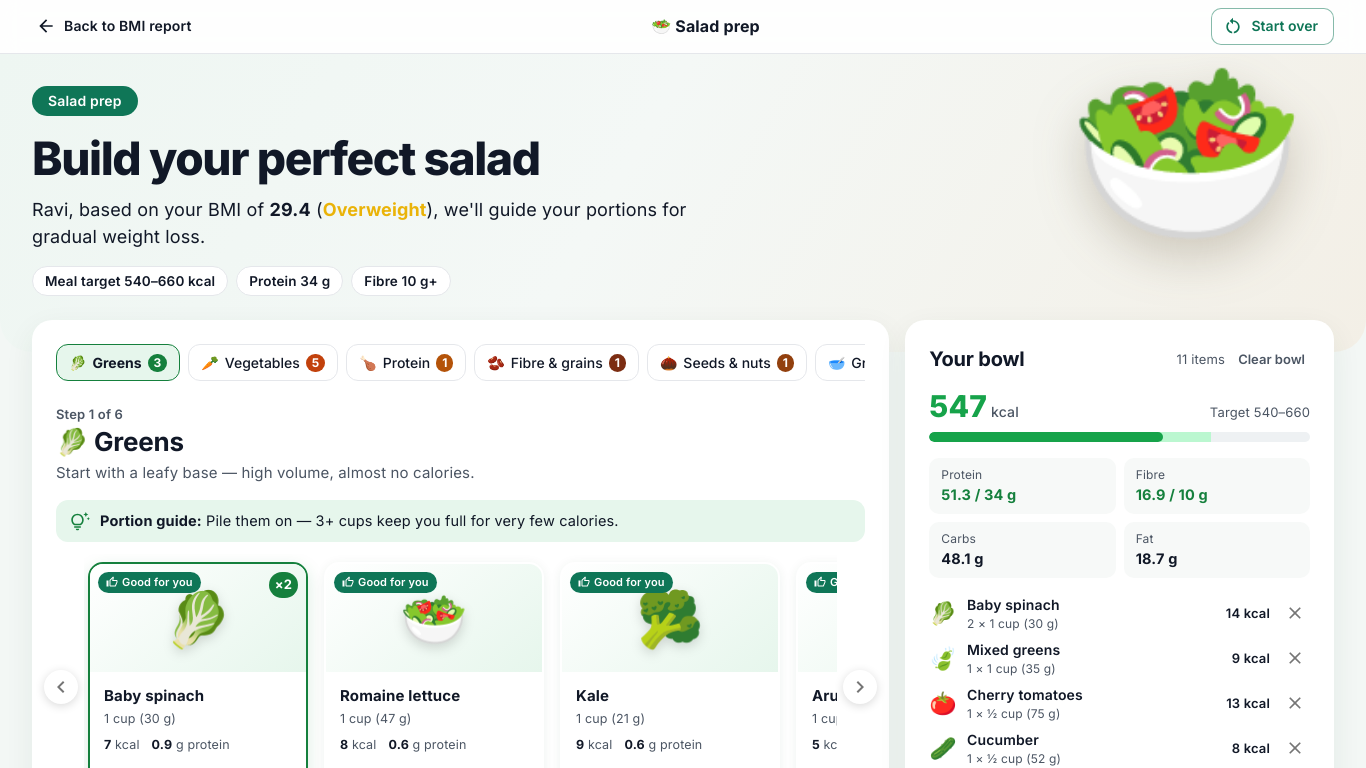
Test case: SaladBuilder › Start over in the top bar restores the recommended bowl, with undo
The image size is (1366, 768).
Expected: the text "based on your BMI of" is shown, [32,196,752,250]
Click the button "Clear bowl": (1272,359) [1233,344,1310,375]
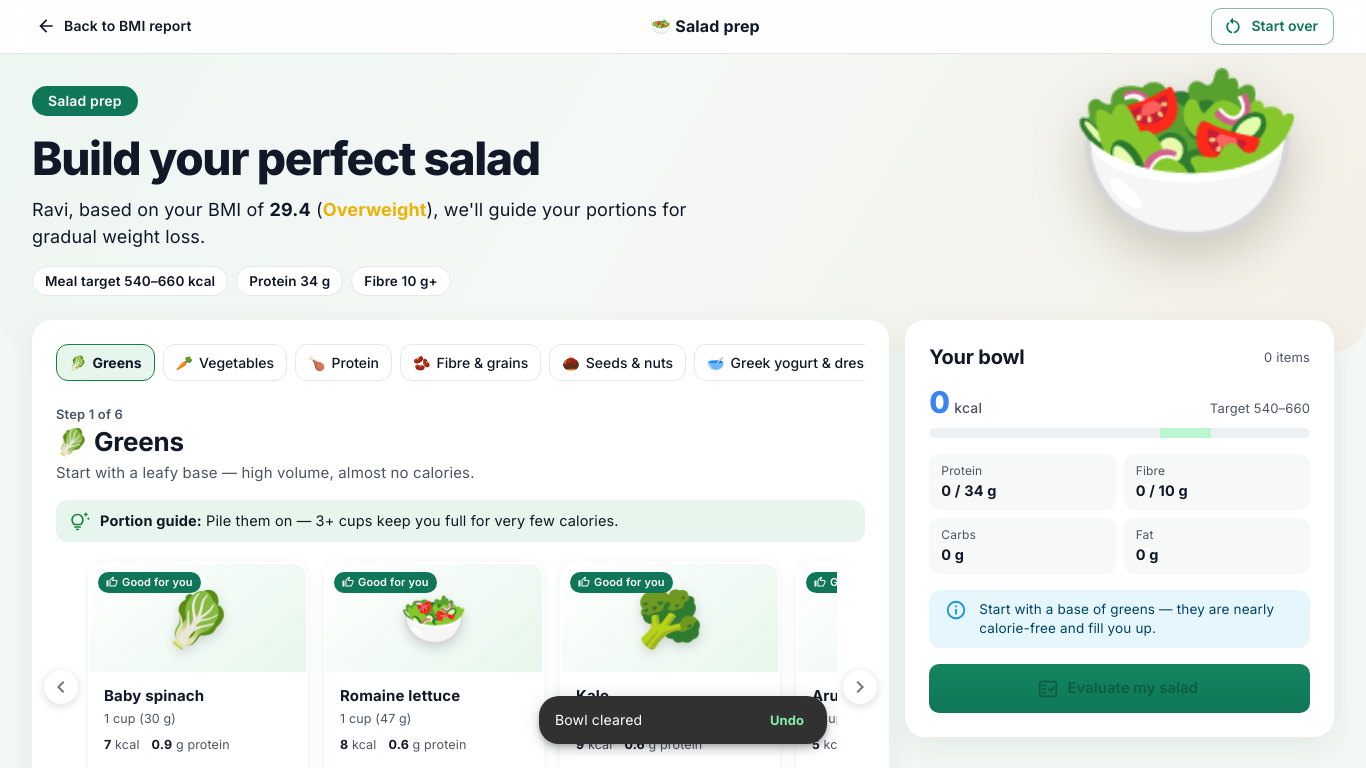
Now the element with test id "bowl-kcal" shows "0", box [929,384,950,420]
Click the button "Start over": (1273,26) [1212,8,1334,44]
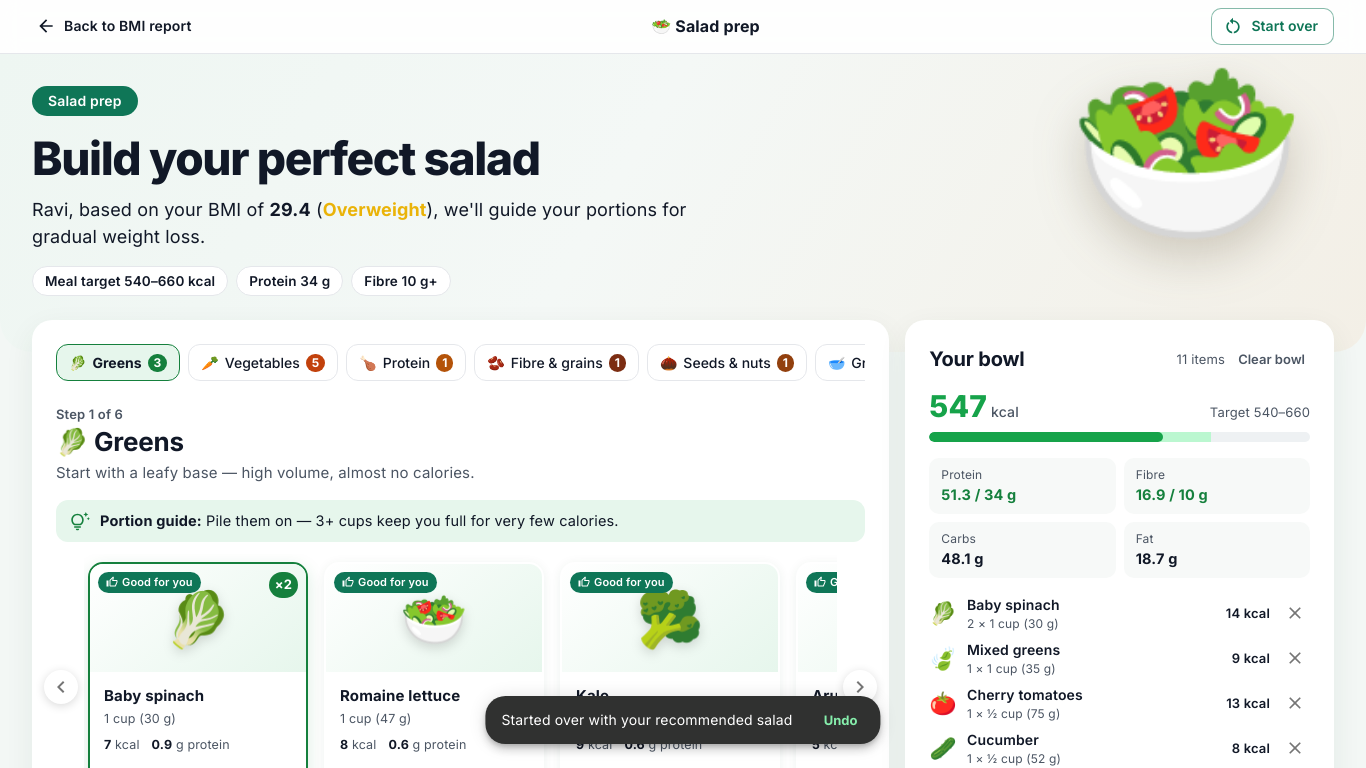
Now the element with test id "bowl-kcal" shows "547", box [929,388,987,424]
Now the text "Started over with your recommended salad" is shown, box [501,711,793,728]
Click the button "Undo": (841,720) [809,705,873,735]
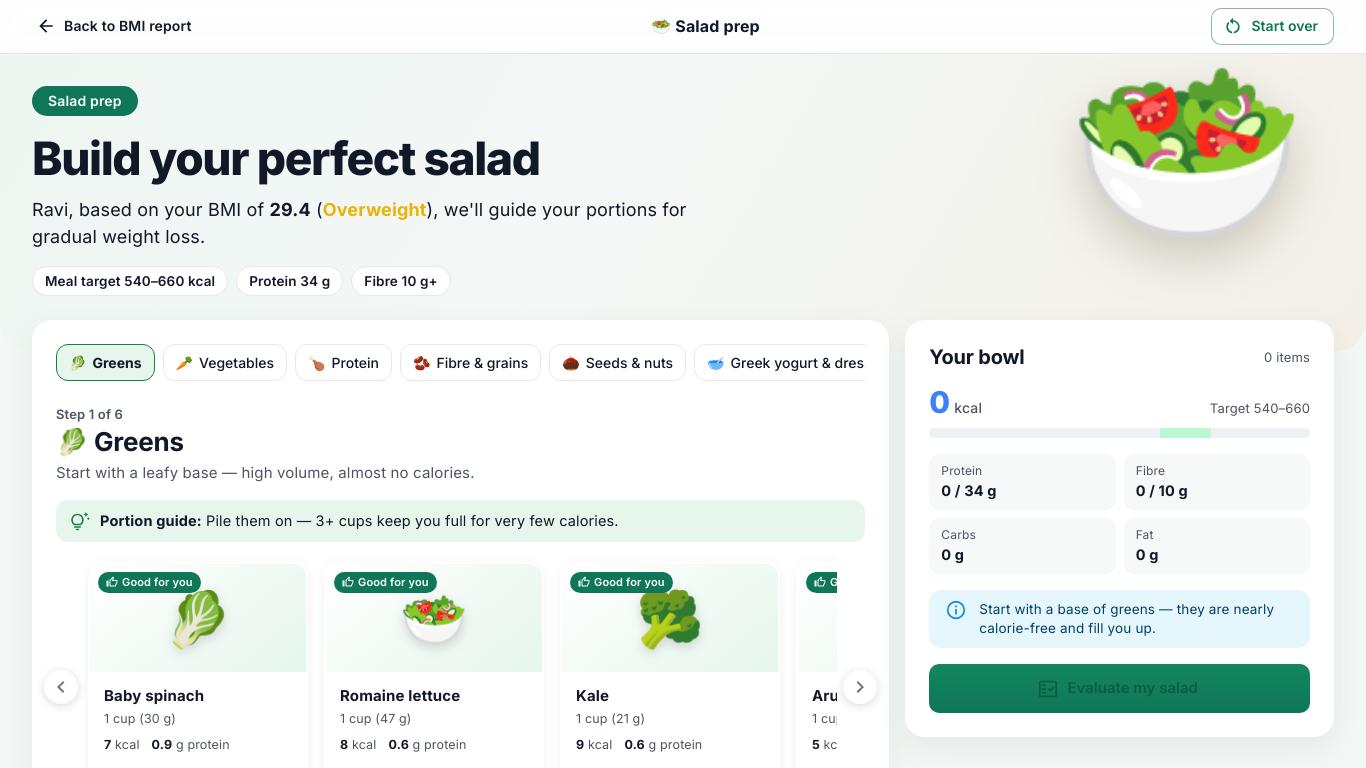
Now the element with test id "bowl-kcal" shows "0", box [929,384,950,420]
